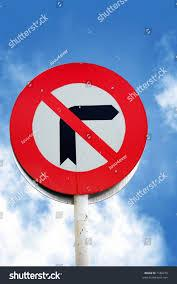no_right_turn: (9, 61, 147, 193)
